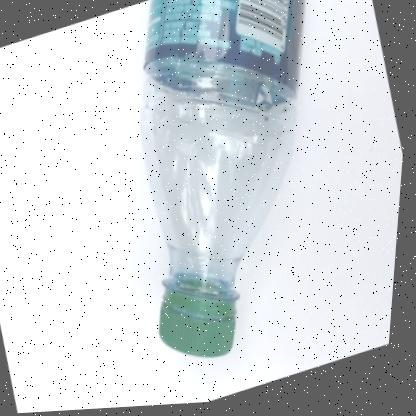Plastic: (143, 0, 306, 360)
